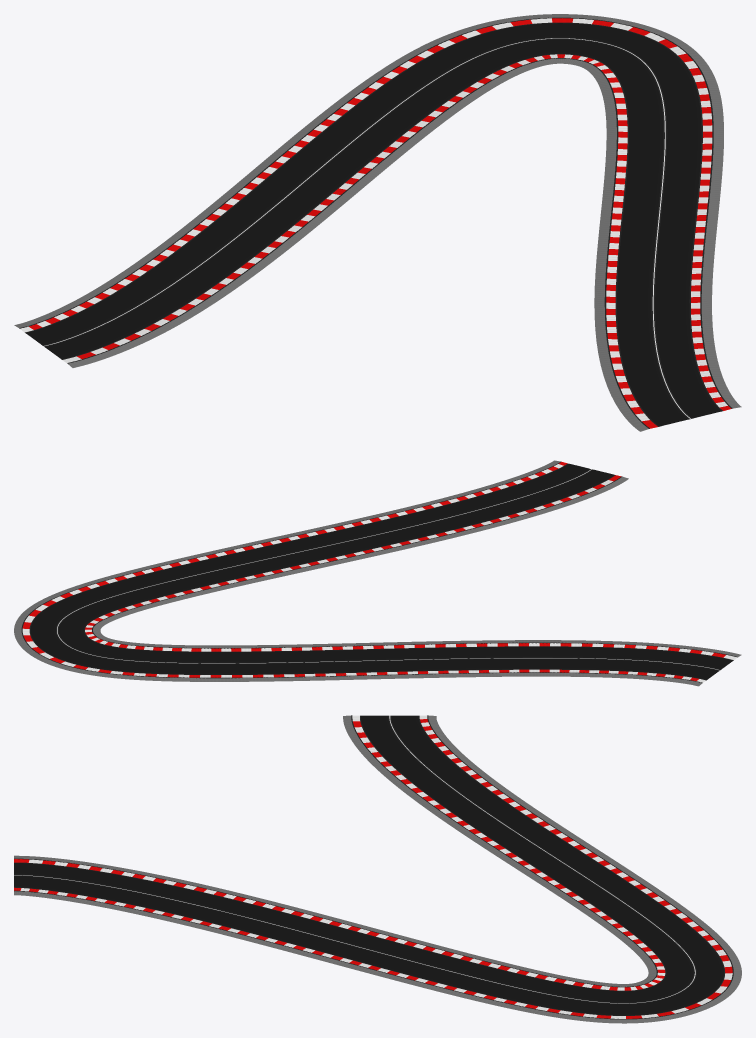
The model's file is S0.Group.202.export.A1R1H0cornRhard.glb.
The picture shows the model from 3 angles, top to bottom: view 1: azimuth 30°, elevation 25°; view 2: azimuth 150°, elevation 25°; view 3: azimuth 270°, elevation 25°; orthographic projection. The views are drawn at different scales.
Parts seen in each view (by area): view 1: Grid; view 2: Grid; view 3: Grid.
Part boxes in pixels (left/top/right/bottom): Grid: left=14, top=14, right=741, bottom=431; Grid: left=14, top=460, right=741, bottom=686; Grid: left=14, top=715, right=741, bottom=1023.
Bounding box in the file's own units: 195 × 0.21 × 195.
